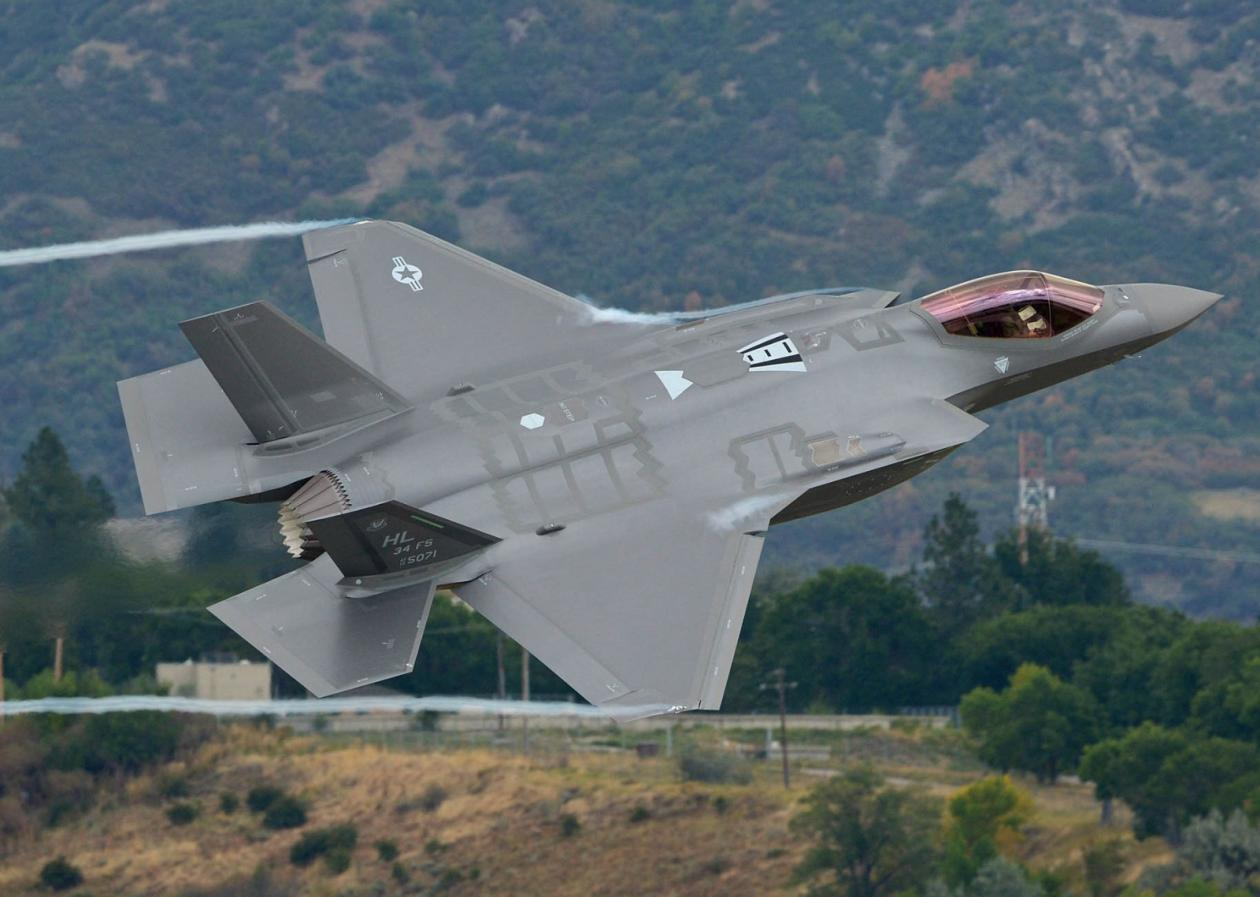F-35 Lightning: (82, 178, 1234, 728)
